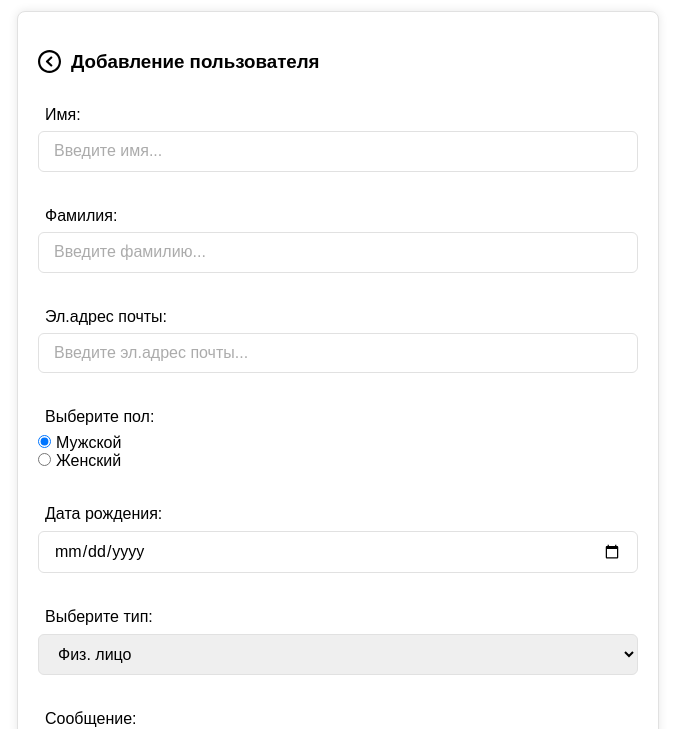
Test: Проверка компонента UserForm › Проверка, если пользователю меньше 18 лет
Type "2015-01-01" into the date field labelled "Дата рождения:" at (338, 552), box [38, 531, 638, 573]
(page scrolled)
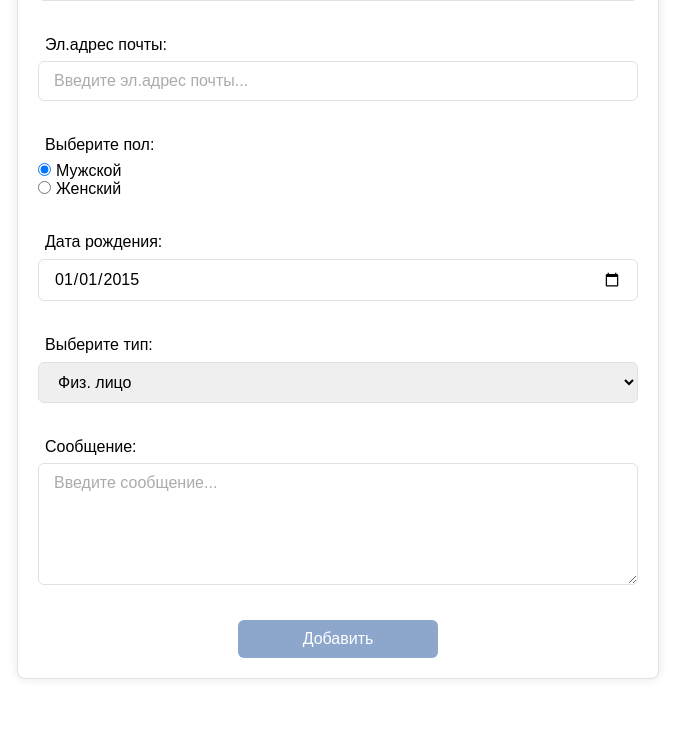
Click the button "Добавить" at (338, 639), box [238, 620, 438, 658]
(page scrolled)
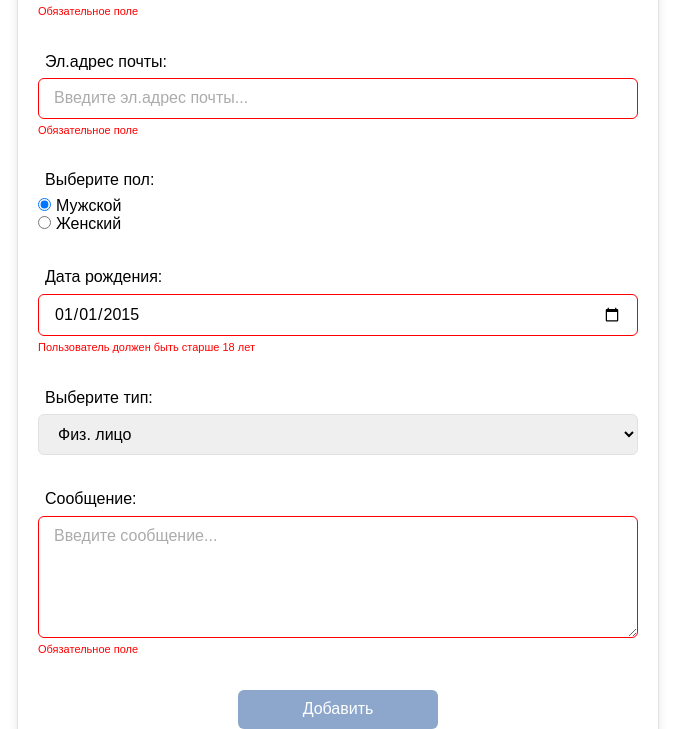
Expected: the text "Пользователь должен быть старше 18 лет" is shown, [38, 341, 255, 353]
